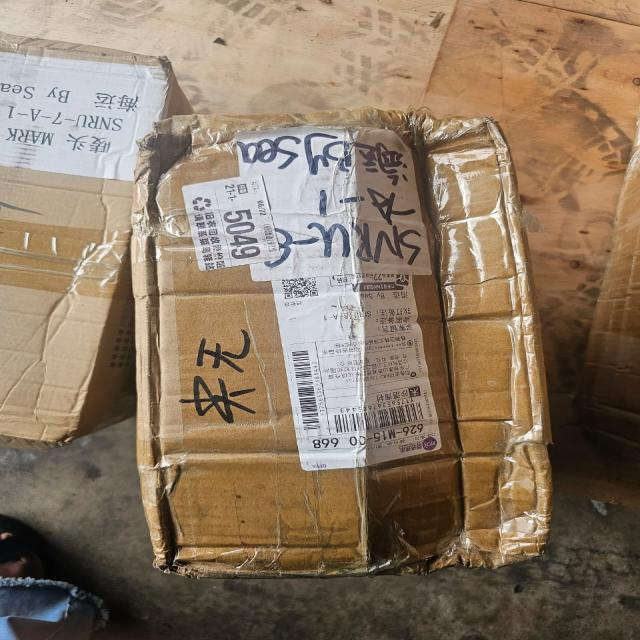carton_box: (120, 104, 561, 586)
export_mark_label: (260, 269, 460, 477)
package_damage: (363, 111, 536, 584)
